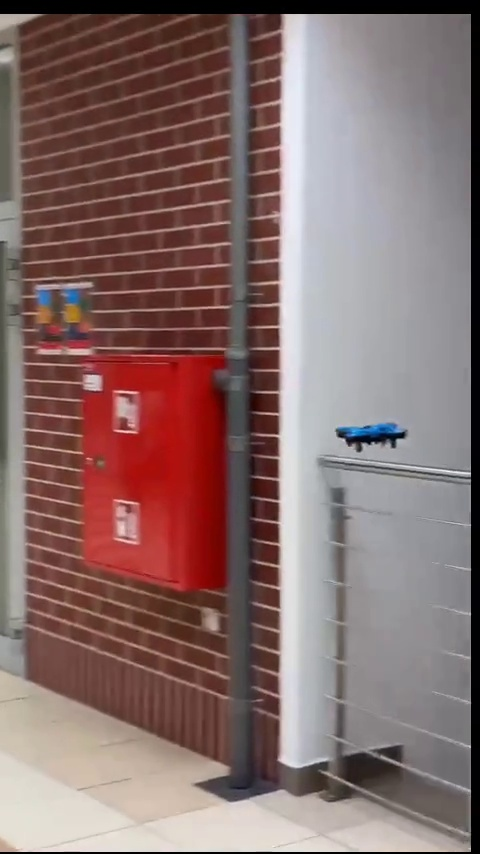drone: (336, 421, 411, 451)
